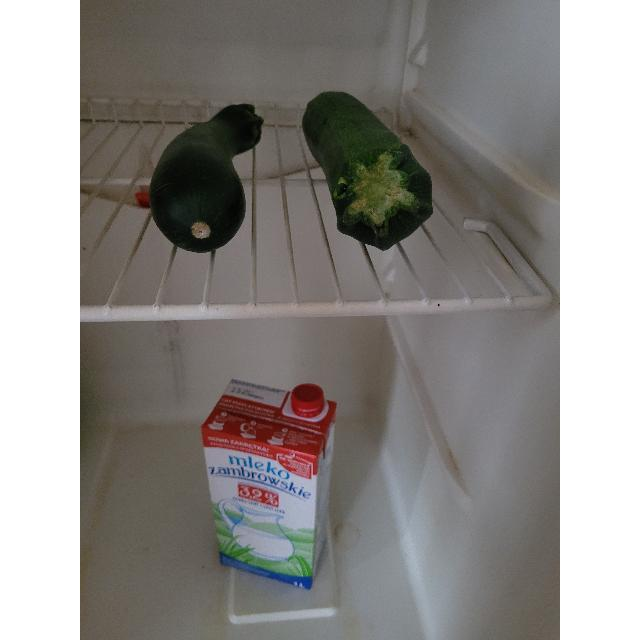milk: (200, 378, 338, 590)
zucchini: (303, 90, 431, 250), (148, 103, 266, 255)
